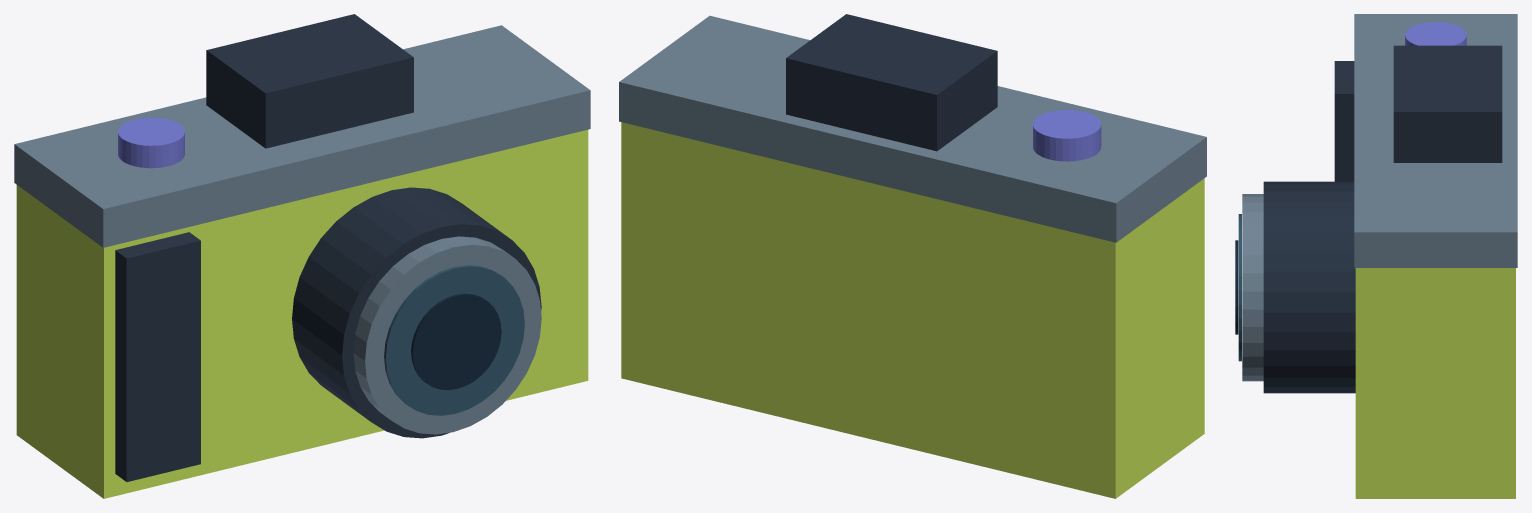
Rendered from camera.glb.
The picture shows the model from 3 angles, left to right: view 1: azimuth 30°, elevation 25°; view 2: azimuth 150°, elevation 25°; view 3: azimuth 270°, elevation 25°; orthographic projection. The views are drawn at different scales.
Visible parts, largest first — view 1: body, silver top, viewfinder, grip, lens barrel, lens ring, lens face, inner glass, shutter; view 2: body, silver top, viewfinder, shutter; view 3: body, silver top, lens barrel, viewfinder, lens ring, grip, shutter, lens face, inner glass.
Boxes of the visible parts, left/top/right/bottom form: body: left=16, top=129, right=588, bottom=498; silver top: left=14, top=25, right=590, bottom=247; viewfinder: left=206, top=14, right=413, bottom=148; grip: left=115, top=232, right=200, bottom=481; lens barrel: left=292, top=187, right=541, bottom=438; lens ring: left=353, top=236, right=541, bottom=434; lens face: left=384, top=265, right=524, bottom=415; inner glass: left=411, top=293, right=501, bottom=390; shutter: left=118, top=117, right=184, bottom=168; body: left=621, top=122, right=1204, bottom=498; silver top: left=619, top=15, right=1206, bottom=242; viewfinder: left=786, top=14, right=997, bottom=151; shutter: left=1033, top=109, right=1101, bottom=161; body: left=1355, top=268, right=1515, bottom=498; silver top: left=1354, top=14, right=1517, bottom=267; lens barrel: left=1263, top=181, right=1355, bottom=393; viewfinder: left=1393, top=45, right=1502, bottom=162; lens ring: left=1242, top=194, right=1263, bottom=381; grip: left=1334, top=61, right=1354, bottom=181; shutter: left=1405, top=22, right=1466, bottom=45; lens face: left=1238, top=214, right=1241, bottom=361; inner glass: left=1235, top=240, right=1238, bottom=334.
Bounding box in the file's own units: 1.71 × 1.16 × 0.933.
